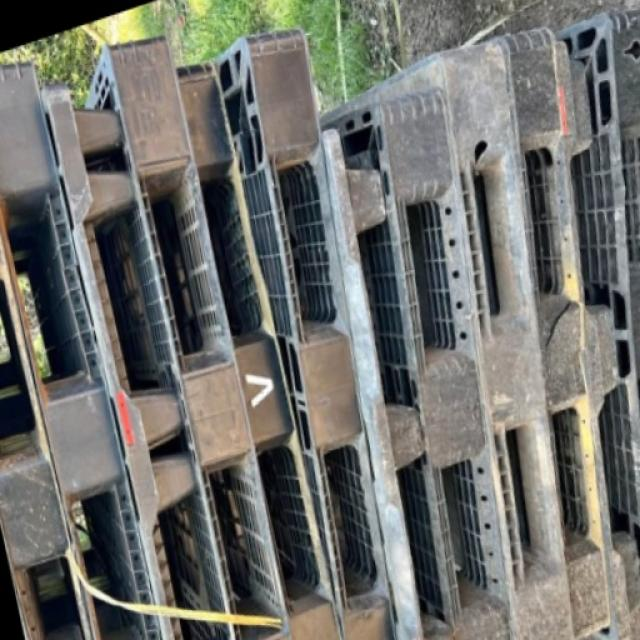non-igps: (94, 27, 304, 640), (206, 0, 407, 640), (26, 78, 252, 640), (166, 46, 352, 640), (420, 10, 592, 640), (0, 54, 184, 640), (363, 75, 539, 640), (300, 116, 465, 640), (494, 11, 624, 640), (539, 0, 639, 640), (543, 0, 639, 640), (0, 180, 102, 640)
